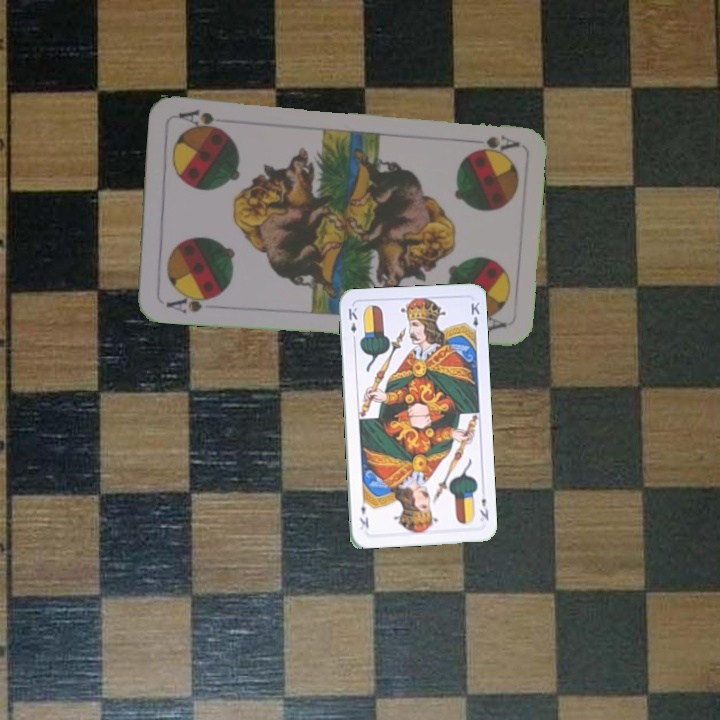EK: (344, 303, 360, 344), (475, 494, 491, 522)
SA: (162, 289, 218, 317), (462, 131, 521, 155)
